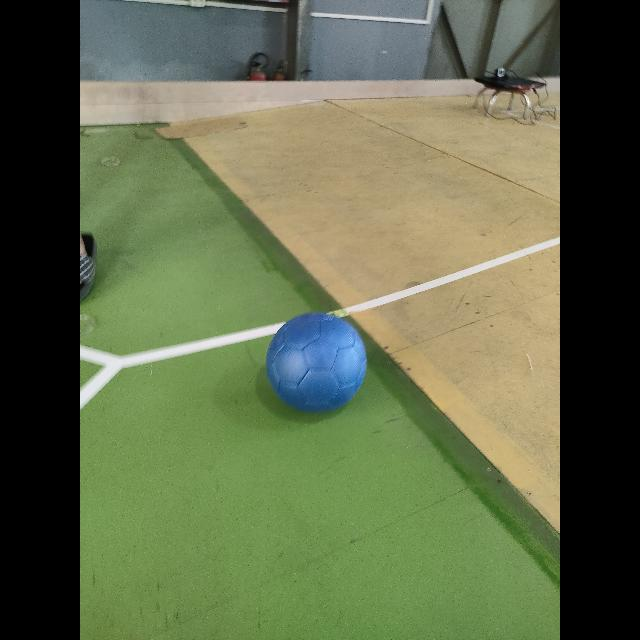B: (266, 313, 366, 412)
